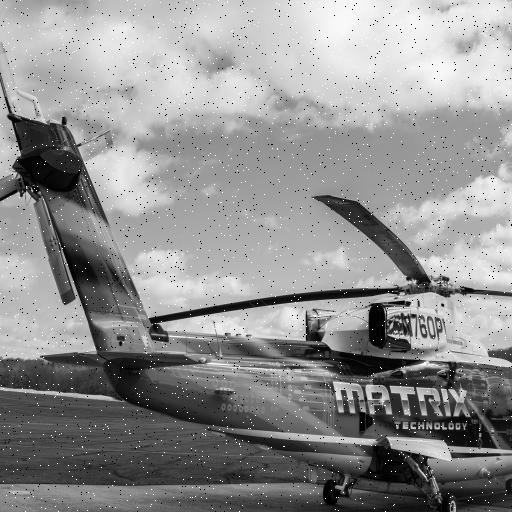helicopter: (1, 43, 512, 512)
